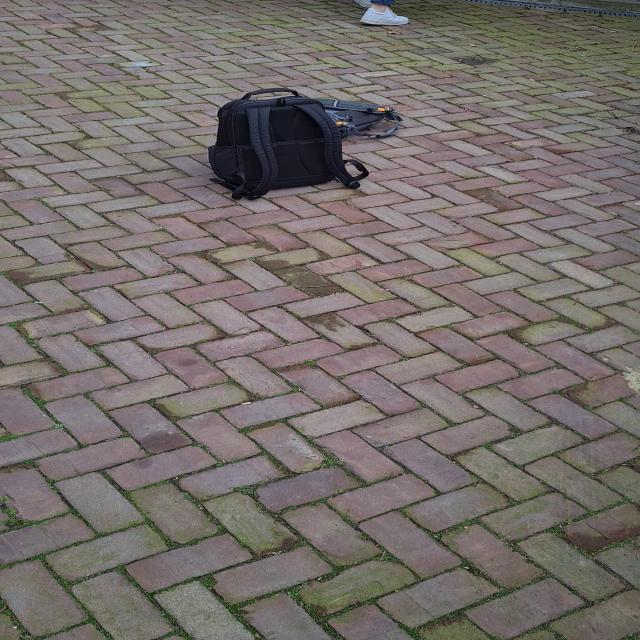backpack: (199, 86, 362, 200), (311, 98, 404, 140)
